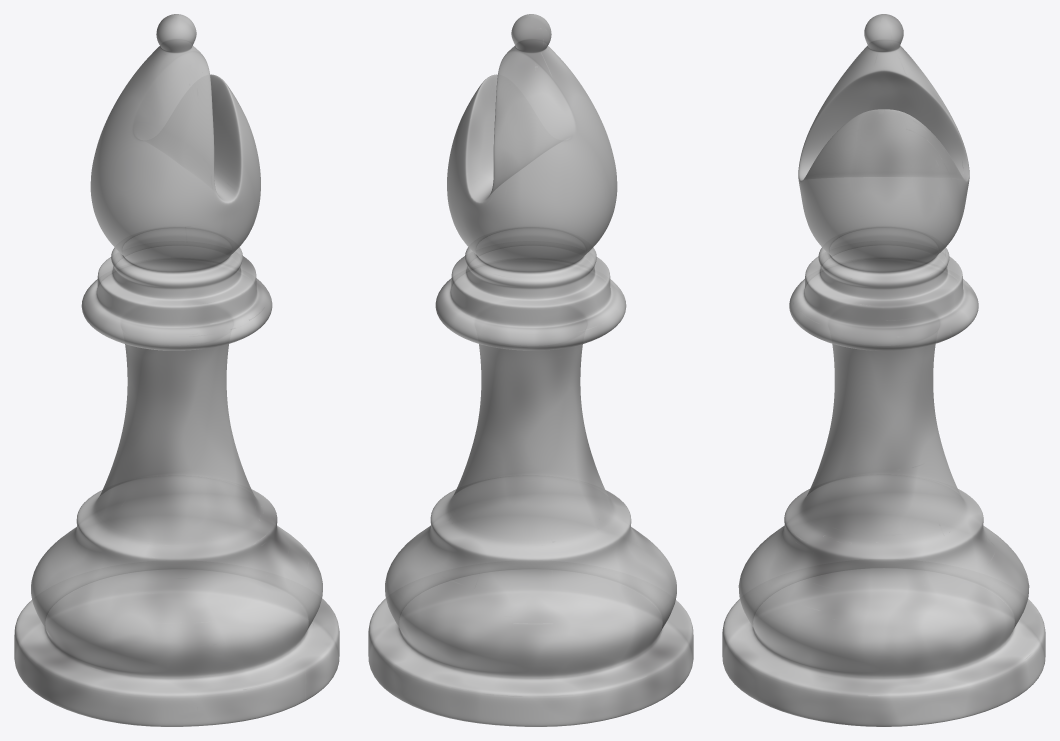
File: alfil_regular.glb
The picture shows the model from 3 angles, left to right: view 1: azimuth 30°, elevation 25°; view 2: azimuth 150°, elevation 25°; view 3: azimuth 270°, elevation 25°; orthographic projection.
Visible parts, largest first — view 1: BISHOP; view 2: BISHOP; view 3: BISHOP.
Part boxes in pixels (left/top/right/bottom): BISHOP: left=14, top=14, right=339, bottom=726; BISHOP: left=368, top=14, right=693, bottom=726; BISHOP: left=722, top=14, right=1045, bottom=726.
Size of the model in its own units: 0.039 by 0.085 by 0.0387.
1 material, 1 textured.
